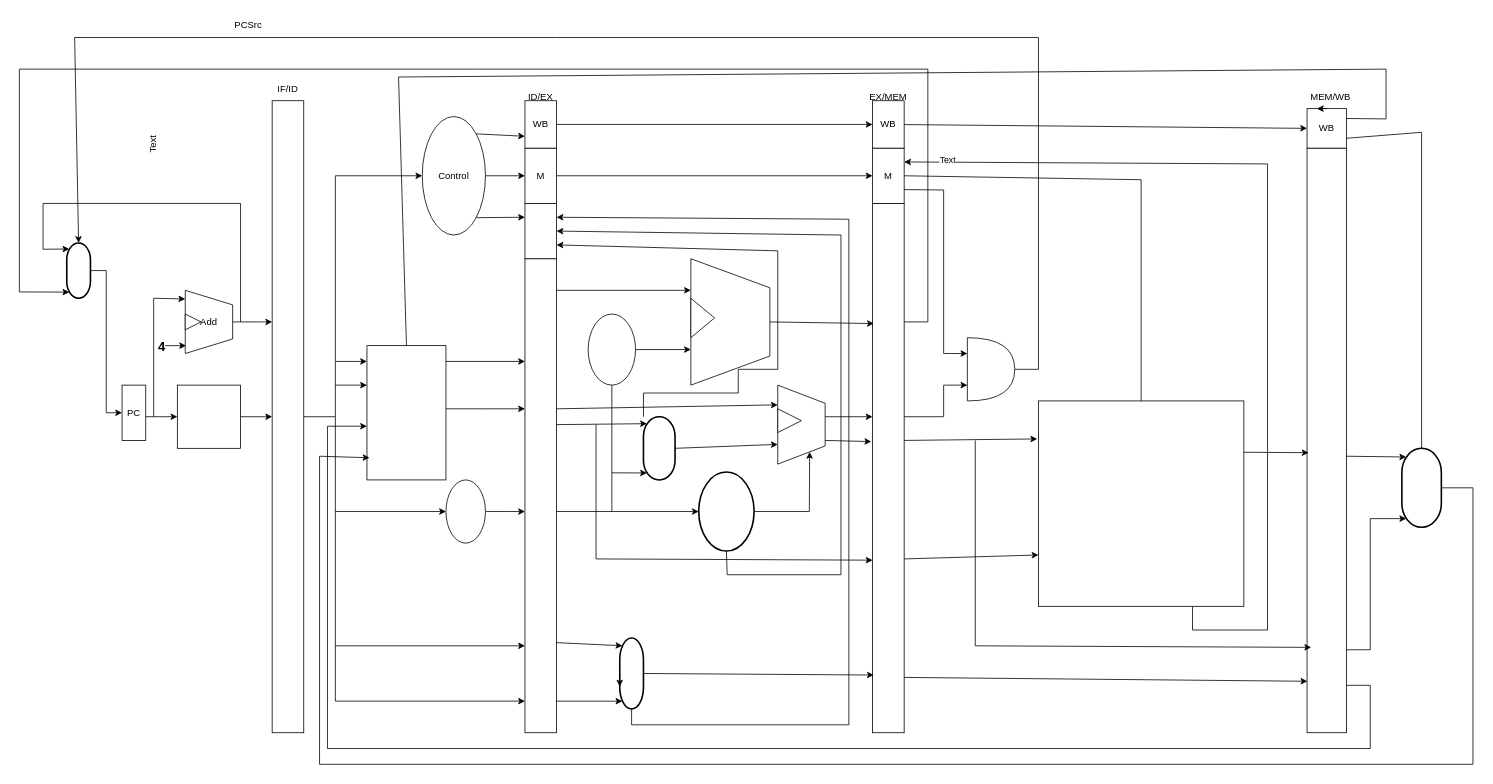
The diagram is 1493 pixels wide and 784 high, and some of its shapes have lost their labels. Here are the shapes that lost their labels. From the top down, the centre of each, then its label:
At point (540, 231): "EX".
At point (78, 270): "M U X".
At point (209, 416): "Instruction Menory".
